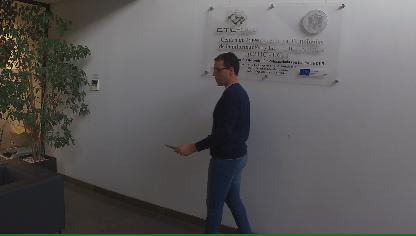knife: (162, 140, 186, 154)
